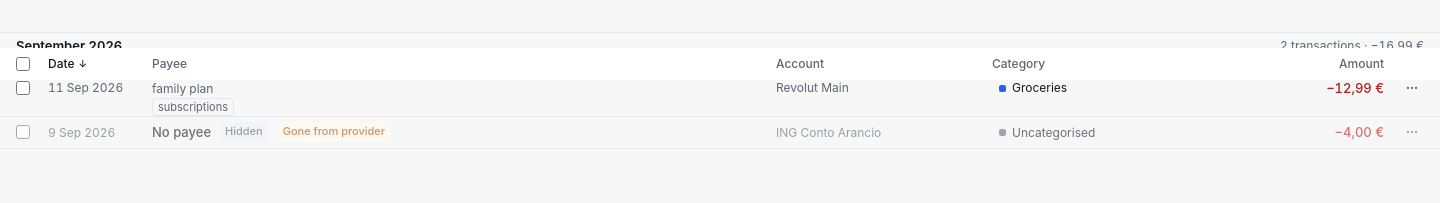
TransactionsTable › selects and clears every row at once
The image size is (1440, 203).
Click the checkbox named "Select all" at [23, 64], box [16,57,30,71]
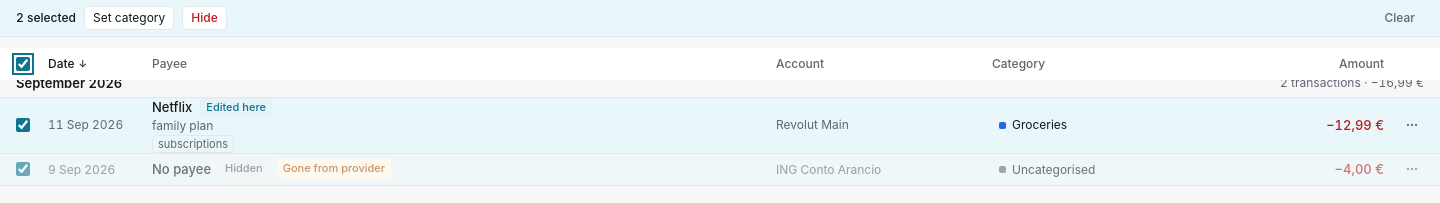
Expected: the text "2 selected" is shown, [16,9,76,27]
Click the button "Clear" at [1400, 18], box [1376,6,1424,30]
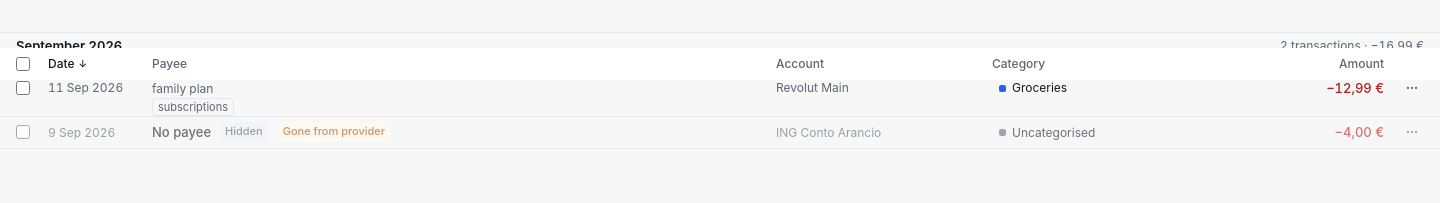
Expected: the text "2 selected" is gone
